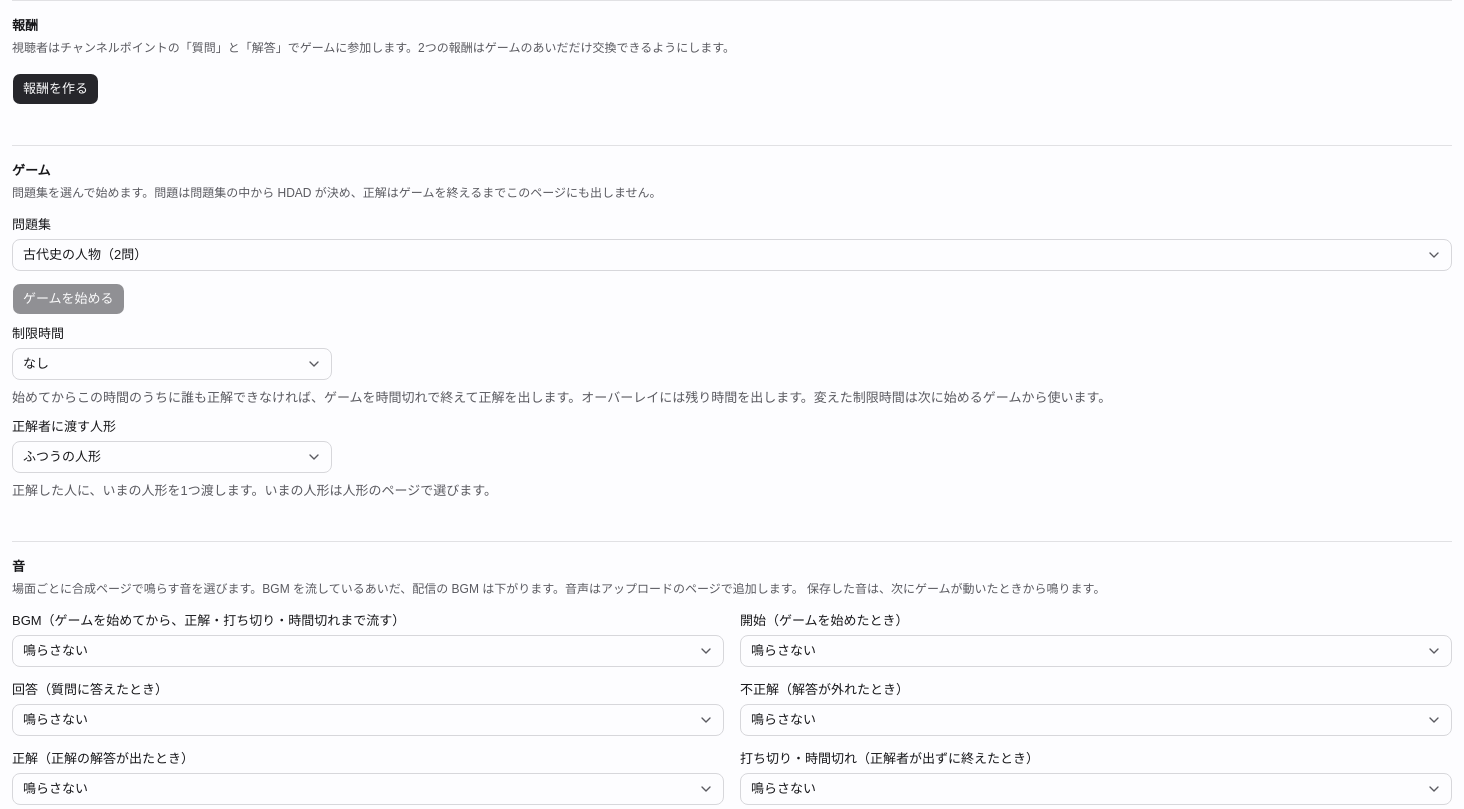
Test case: 報酬 › 報酬がまだ無ければ作れる。作るまではゲームを始めさせない
Expected: the button "ゲームを始める" is disabled, left=12, top=283, right=125, bottom=315
Click the button "報酬を作る".
click(56, 89)  # box left=12, top=73, right=99, bottom=105
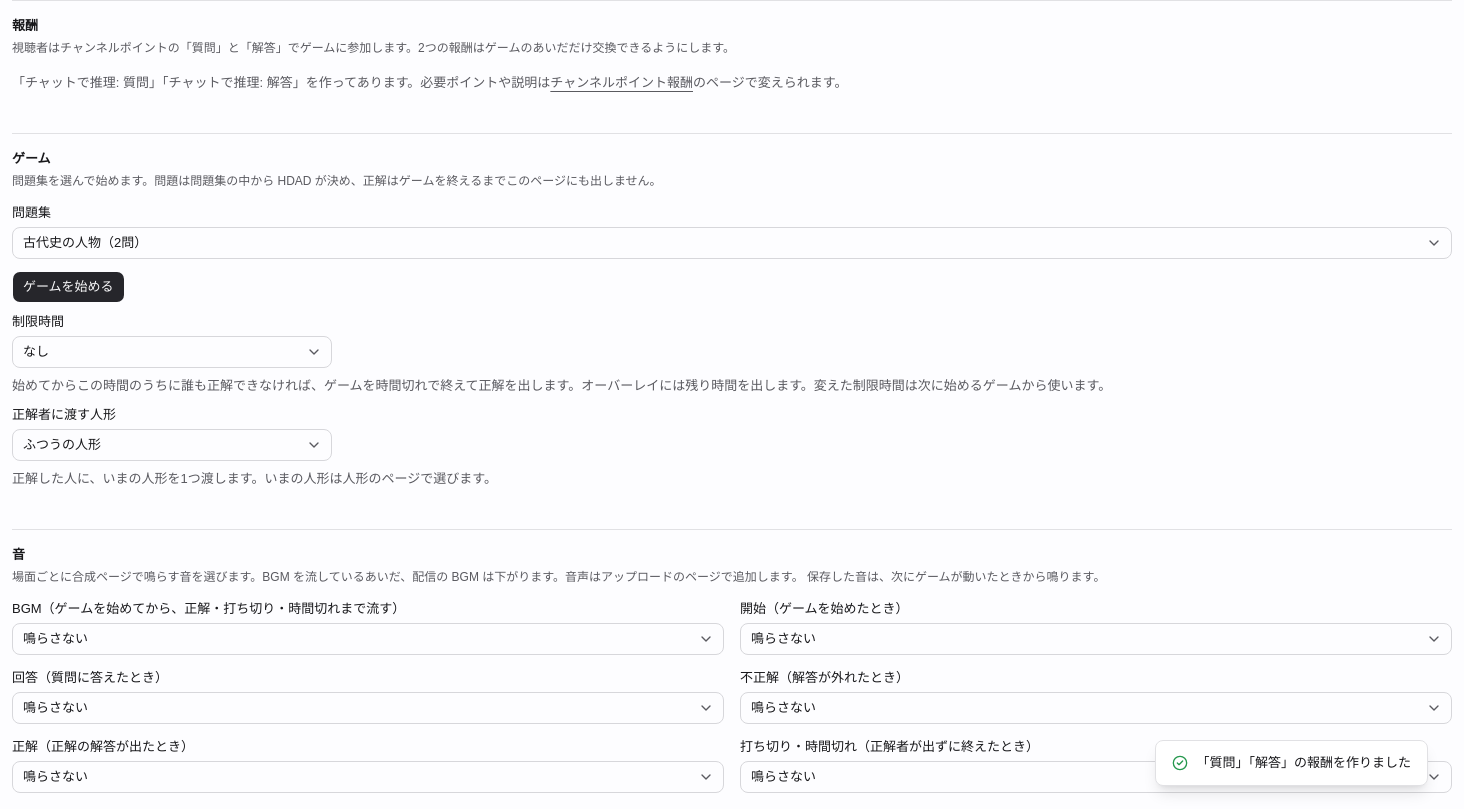
Expected: the button "ゲームを始める" is enabled, left=12, top=271, right=125, bottom=303
Expected: the button "報酬を作る" is gone
